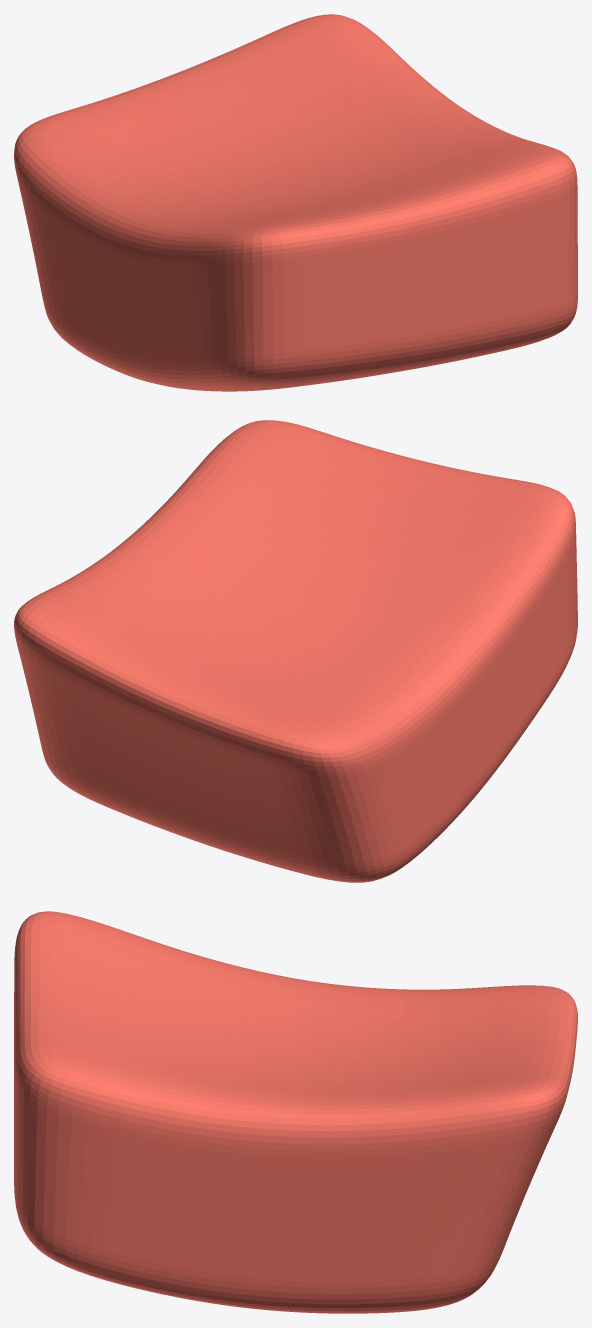
3 renders of one model, top to bottom at view 1: azimuth 30°, elevation 25°; view 2: azimuth 150°, elevation 25°; view 3: azimuth 270°, elevation 25°, orthographic. The views are drawn at different scales.
Parts seen in each view (by area): view 1: waves_1.047; view 2: waves_1.047; view 3: waves_1.047.
Part boxes in pixels (x1=…): waves_1.047: x1=14, y1=14, x2=577, y2=391; waves_1.047: x1=14, y1=420, x2=577, y2=882; waves_1.047: x1=14, y1=911, x2=577, y2=1313.
Size of the model in its own units: 30.1 by 20.44 by 38.37.
